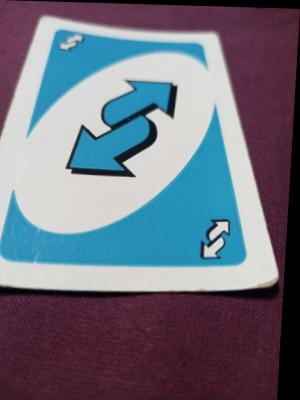blue: (36, 28, 212, 276)
reverse: (204, 214, 235, 258), (55, 30, 89, 52)
